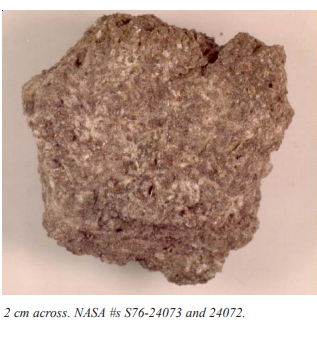Basalt: (14, 23, 304, 288)
